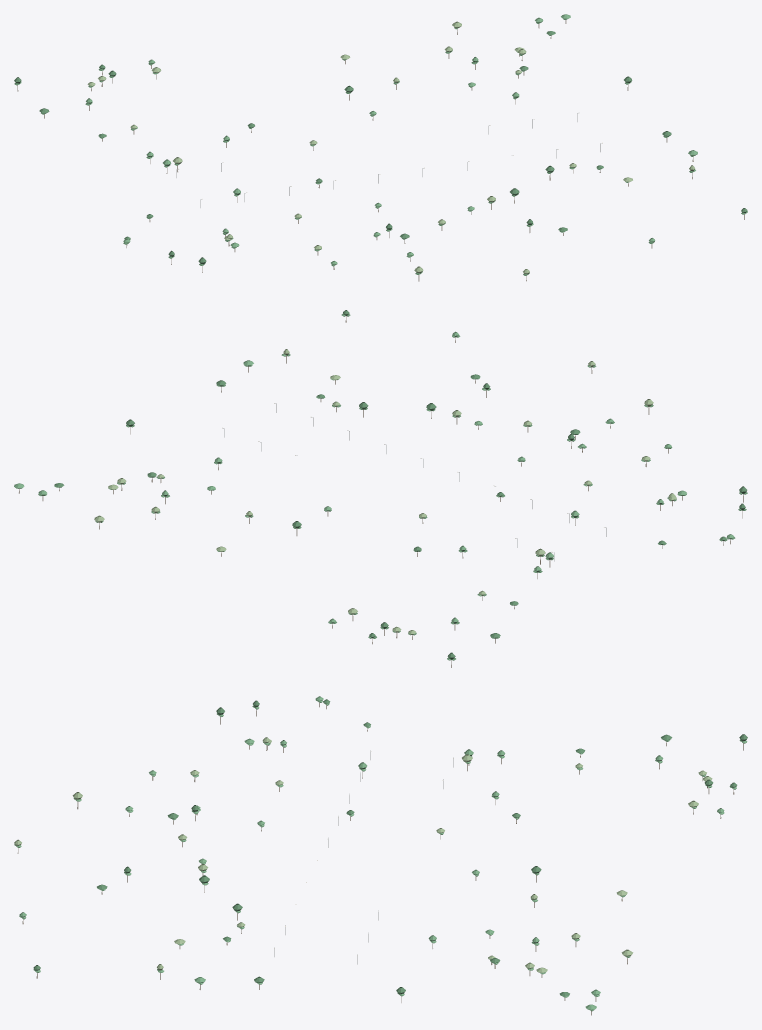
3 renders of one model, top to bottom at view 1: azimuth 30°, elevation 25°; view 2: azimuth 150°, elevation 25°; view 3: azimuth 270°, elevation 25°, orthographic. The views are drawn at different scales.
Parts seen in each view (by area): view 1: Uttara North neighborhood furniture (approximate); view 2: Uttara North neighborhood furniture (approximate); view 3: Uttara North neighborhood furniture (approximate).
Part boxes in pixels (box(x1,y1,x2,y2)): Uttara North neighborhood furniture (approximate): box(14, 14, 747, 281); Uttara North neighborhood furniture (approximate): box(14, 310, 747, 667); Uttara North neighborhood furniture (approximate): box(14, 696, 747, 1015).
Bounding box in the file's own units: 490 × 12.27 × 486.
